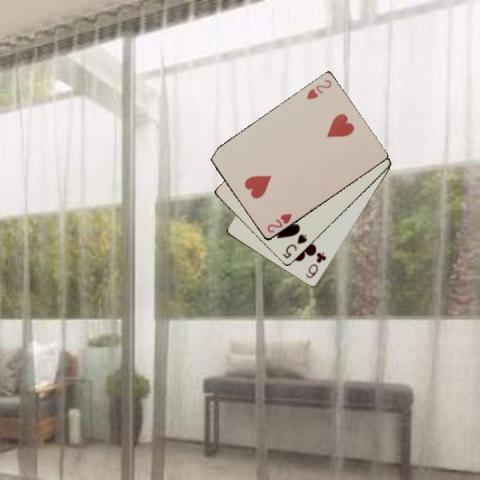2h: (264, 210, 293, 235), (303, 77, 333, 100)
5s: (279, 231, 309, 260)
6c: (303, 249, 327, 280)
